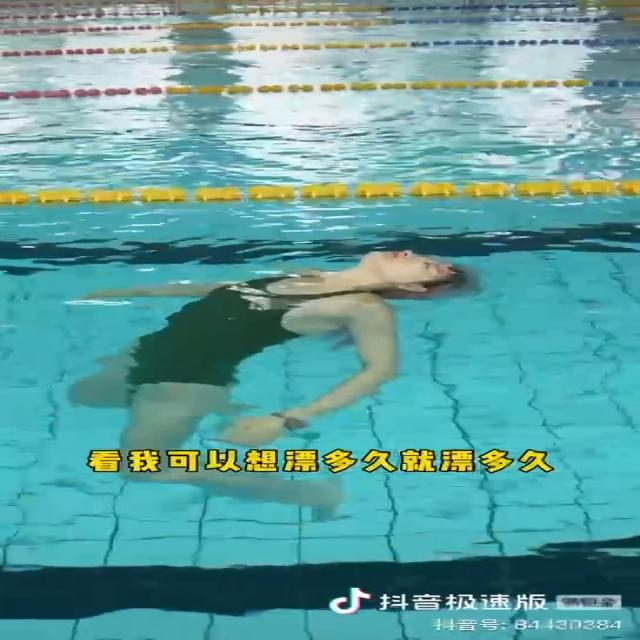Drowning: (67, 248, 469, 520)
